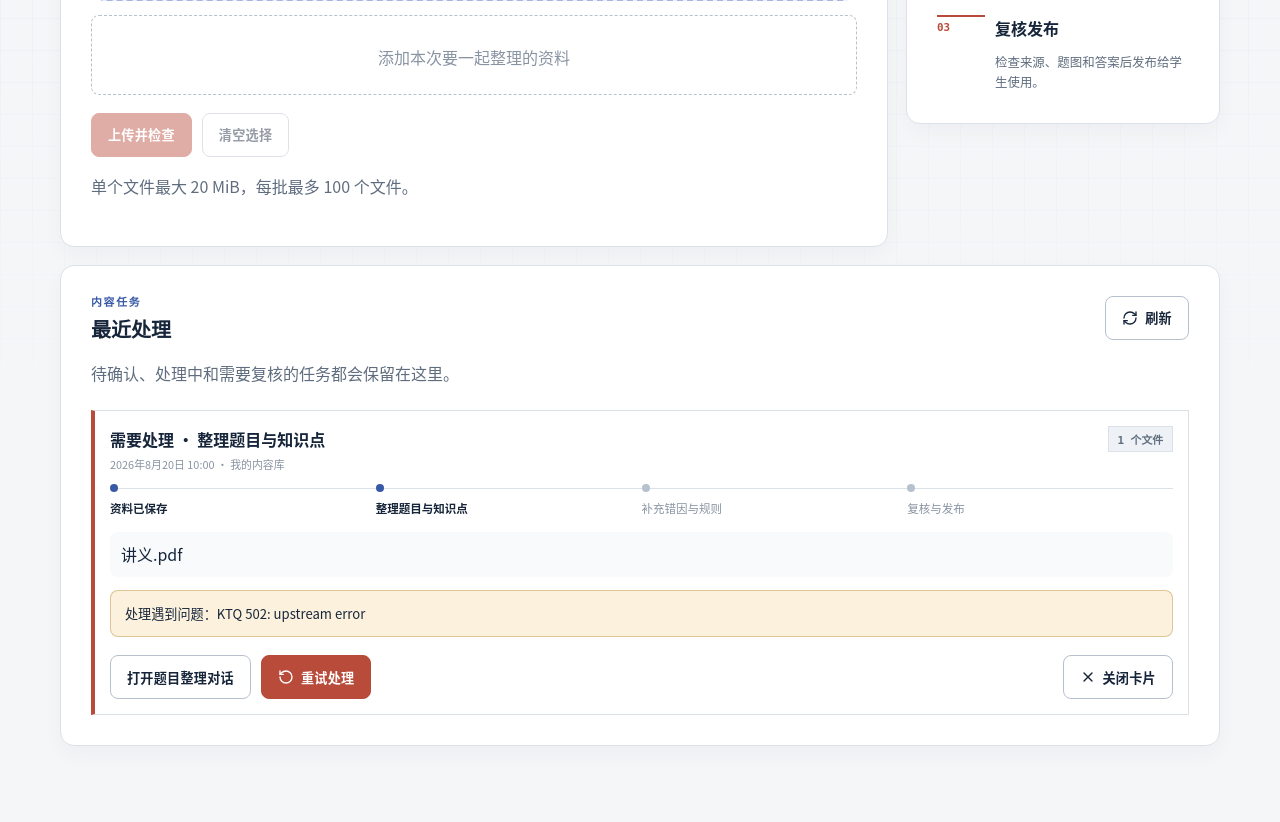
content pipeline card actions › 对失败任务点击重试会重启流水线并清除错误提示
(page scrolled)
Expected: the text "需要处理 · 整理题目与知识点" is shown, [110,426,325,452]
Expected: the text "处理遇到问题：KTQ 502: upstream error" is shown, [110,590,1173,637]
What coordinates should you click on to do the following:
click the button "重试处理"
I would click on:
 (316, 677)
Its box is [261,655,372,699].
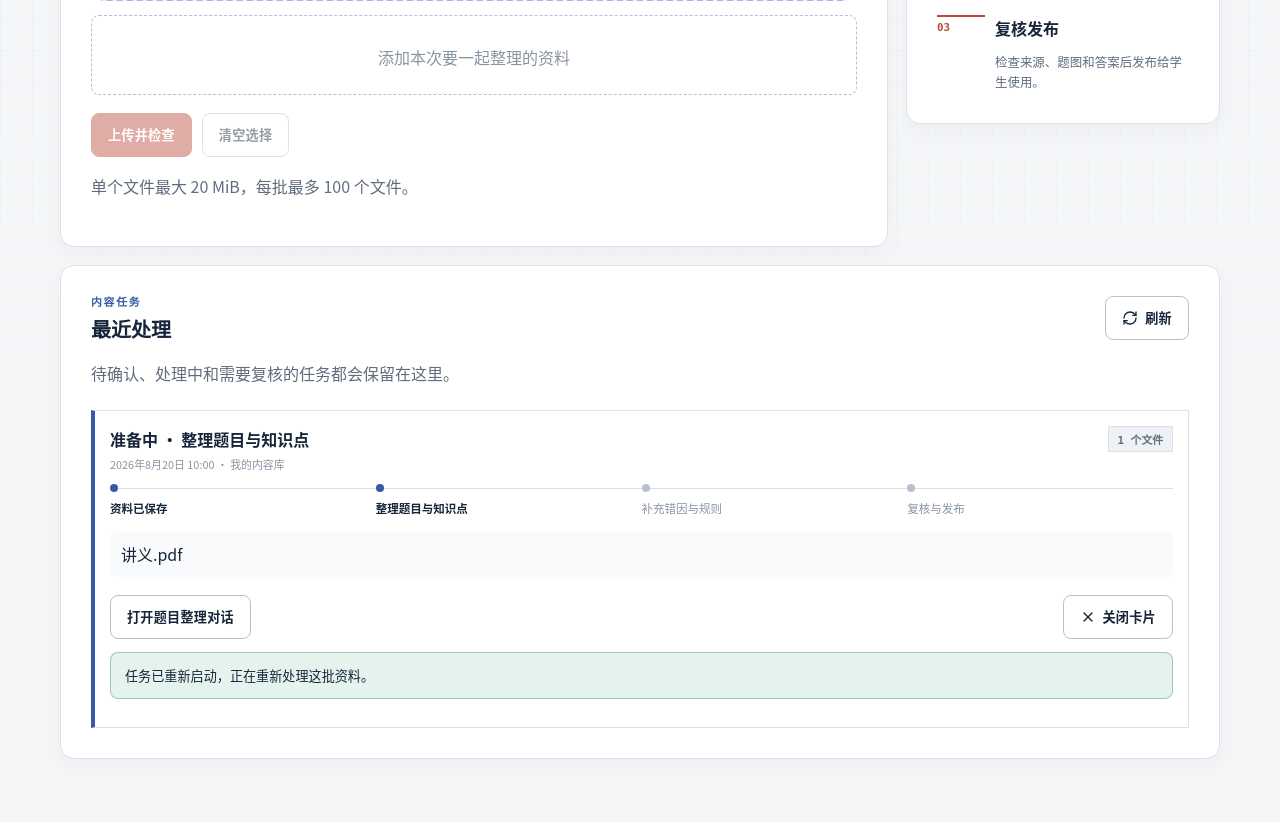
Expected: the text "任务已重新启动，正在重新处理这批资料。" is shown, [110,652,1173,699]
Expected: the text "处理遇到问题" is gone
